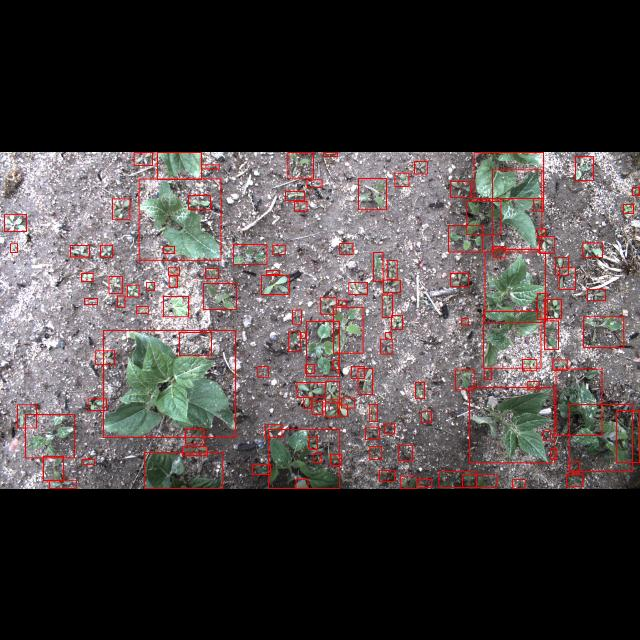crop: (104, 329, 236, 436), (139, 178, 221, 260), (470, 387, 554, 463), (484, 250, 546, 322), (268, 428, 339, 488), (492, 169, 542, 249), (483, 310, 541, 368), (474, 151, 544, 197), (144, 452, 222, 488), (156, 152, 202, 178), (164, 296, 188, 316), (296, 479, 308, 489)
weed: (570, 404, 632, 471), (556, 368, 602, 436), (26, 414, 74, 458), (306, 320, 339, 376), (333, 308, 363, 352), (584, 316, 624, 348), (616, 410, 640, 462), (467, 200, 501, 233), (448, 225, 482, 251), (358, 178, 386, 208), (204, 283, 236, 309), (179, 332, 211, 356), (233, 244, 267, 264), (288, 151, 314, 177), (438, 471, 476, 487), (261, 274, 289, 294), (43, 456, 63, 480), (463, 474, 497, 488), (297, 382, 325, 398), (18, 404, 36, 428), (575, 156, 593, 180), (544, 320, 558, 350), (4, 213, 26, 230), (358, 368, 372, 394), (112, 198, 130, 218), (456, 369, 474, 389), (544, 298, 562, 318), (189, 194, 211, 210), (324, 381, 340, 403), (559, 267, 575, 289), (451, 181, 471, 197), (536, 293, 548, 319), (186, 428, 204, 444), (373, 252, 383, 280), (583, 242, 603, 256), (449, 272, 468, 286), (182, 446, 208, 456), (320, 297, 336, 313), (96, 350, 114, 364), (49, 479, 76, 488), (70, 244, 90, 256), (288, 331, 300, 351), (348, 282, 368, 294), (382, 294, 392, 318), (540, 235, 554, 252), (108, 276, 122, 292), (266, 424, 282, 438), (398, 445, 412, 461), (134, 152, 152, 164), (88, 398, 106, 410), (556, 256, 568, 274), (587, 288, 605, 300), (326, 399, 338, 416), (384, 280, 401, 292), (395, 172, 409, 186), (401, 476, 417, 488), (522, 358, 538, 370), (567, 474, 583, 486), (252, 464, 270, 474), (286, 190, 304, 200), (387, 260, 397, 278), (381, 338, 392, 354), (365, 427, 379, 439), (414, 160, 428, 172), (552, 359, 568, 369), (380, 471, 394, 482), (100, 244, 112, 256), (127, 284, 139, 296), (370, 446, 382, 458), (352, 366, 364, 378), (340, 242, 352, 254), (341, 397, 355, 407), (292, 309, 302, 323), (392, 315, 402, 329), (369, 404, 377, 421), (331, 454, 342, 466), (308, 436, 318, 449), (306, 179, 322, 187), (416, 382, 424, 398), (81, 272, 93, 282), (206, 268, 218, 278), (312, 402, 322, 414), (295, 201, 307, 211), (494, 246, 506, 256), (533, 198, 543, 210), (273, 244, 285, 253), (513, 479, 525, 488), (258, 366, 268, 376), (384, 423, 394, 433), (422, 412, 432, 422), (569, 462, 579, 472), (623, 203, 633, 213), (169, 275, 177, 287), (136, 305, 148, 313), (340, 404, 348, 416), (420, 479, 432, 487), (484, 368, 492, 380), (84, 298, 98, 304), (10, 242, 18, 252), (117, 296, 125, 306), (303, 398, 311, 408), (306, 364, 314, 374), (528, 381, 538, 389), (536, 228, 546, 236), (163, 245, 174, 252), (168, 268, 180, 274), (201, 164, 219, 168), (84, 459, 95, 465), (551, 448, 557, 459), (146, 282, 154, 290), (632, 186, 640, 194), (314, 453, 320, 463), (333, 359, 339, 369), (544, 430, 550, 440), (266, 270, 280, 274), (323, 151, 337, 155), (338, 299, 346, 305), (384, 332, 392, 338), (300, 332, 306, 338), (462, 318, 468, 324)
